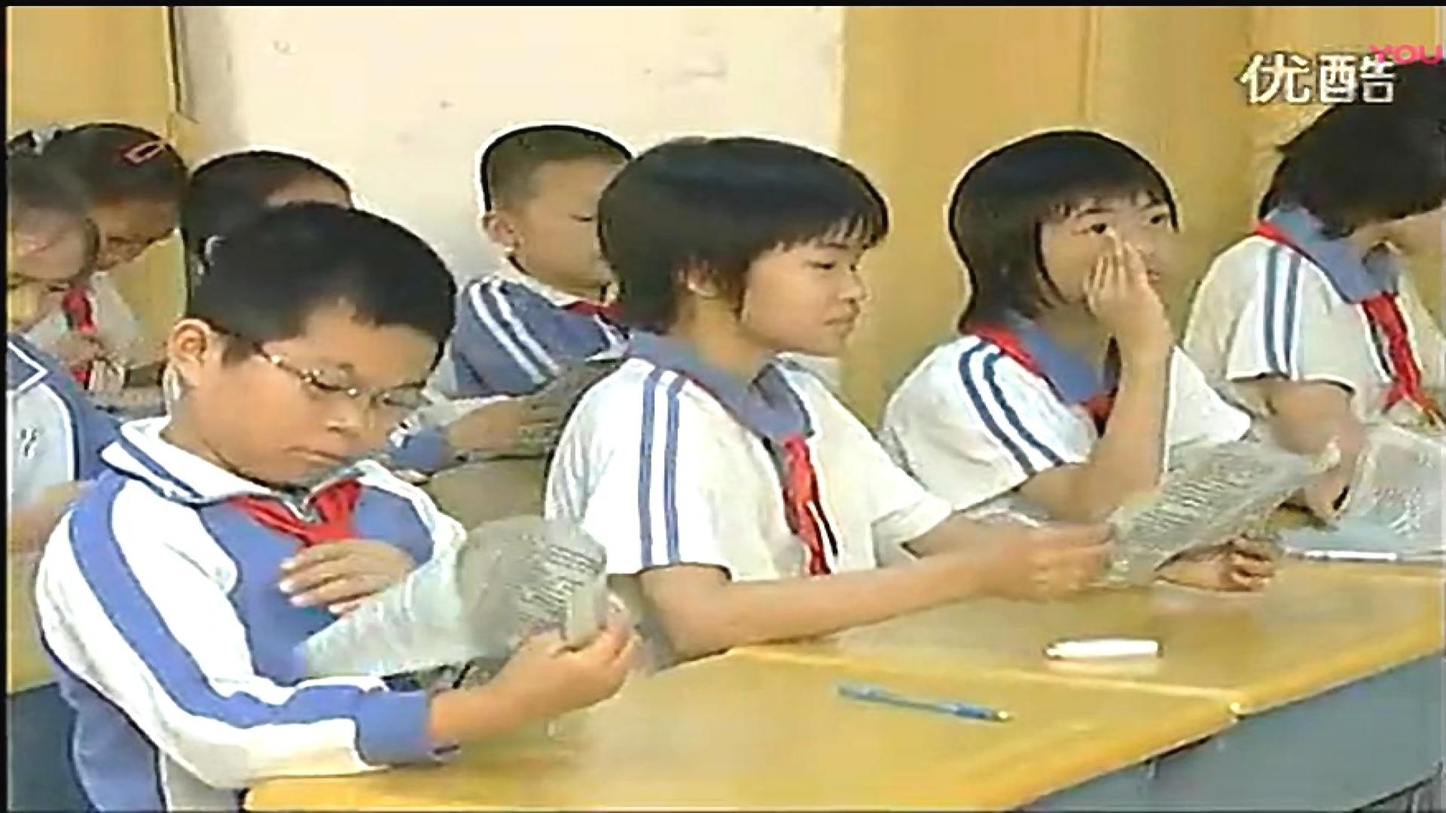Wave: (1084, 266, 1185, 515)
